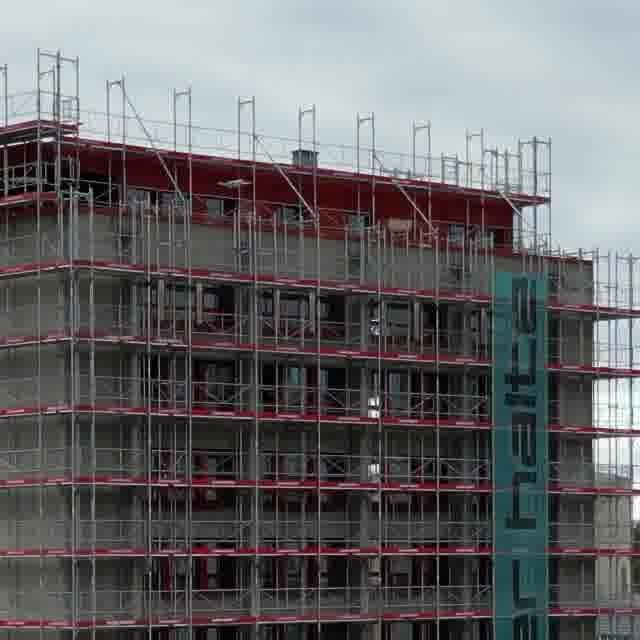Drohne: (220, 179, 248, 188)
